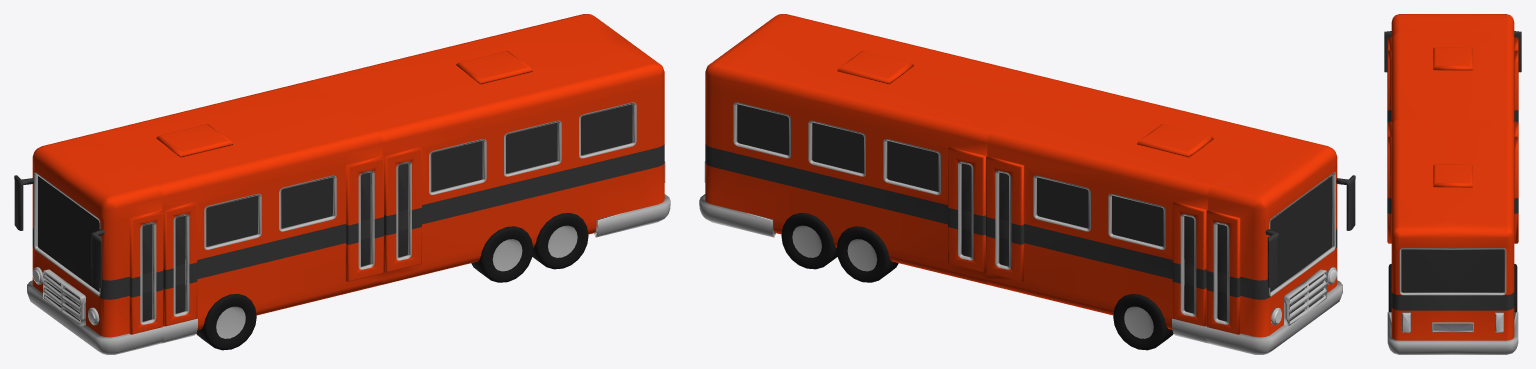
The model's file is bus.obj.
3 views of the same model, side by side, from view 1: azimuth 30°, elevation 25°; view 2: azimuth 150°, elevation 25°; view 3: azimuth 270°, elevation 25° (orthographic). The views are drawn at different scales.
Visible parts, largest first — view 1: 0, 0_1, 0_2, 0_5, 0_8; view 2: 0, 0_1, 0_2, 0_5, 0_8; view 3: 0, 0_1, 0_2, 0_5, 0_8, 0_4, 0_7, 0_6.
Part boxes in pixels (left/top/right/bottom): 0: left=32, top=14, right=664, bottom=337; 0_1: left=38, top=104, right=632, bottom=321; 0_2: left=27, top=102, right=670, bottom=354; 0_5: left=14, top=144, right=664, bottom=321; 0_8: left=196, top=213, right=588, bottom=350; 0: left=705, top=14, right=1337, bottom=337; 0_1: left=737, top=104, right=1331, bottom=321; 0_2: left=699, top=102, right=1342, bottom=354; 0_5: left=705, top=144, right=1355, bottom=321; 0_8: left=781, top=213, right=1173, bottom=350; 0: left=1387, top=14, right=1518, bottom=340; 0_1: left=1401, top=249, right=1504, bottom=292; 0_2: left=1387, top=248, right=1518, bottom=354; 0_5: left=1384, top=31, right=1521, bottom=310; 0_8: left=1388, top=264, right=1517, bottom=312; 0_4: left=1433, top=324, right=1472, bottom=330; 0_7: left=1403, top=314, right=1502, bottom=323; 0_6: left=1403, top=323, right=1502, bottom=332.
Bounding box in the file's own units: 985 × 296 × 252.
